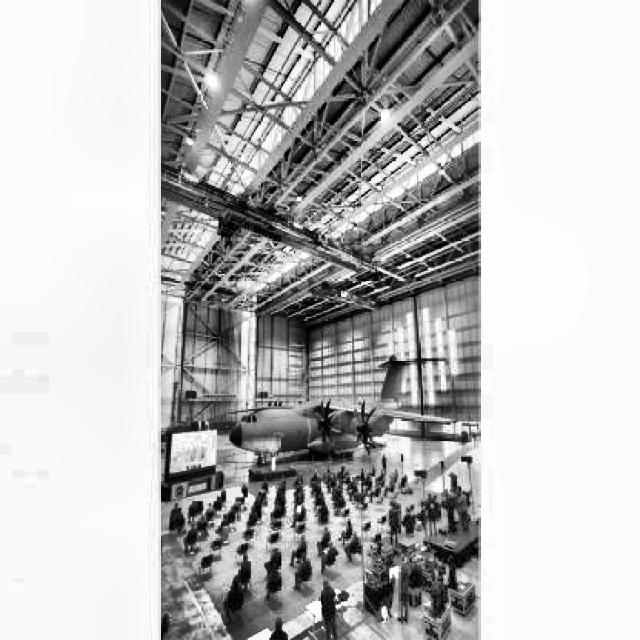A400M: (227, 353, 459, 465)
